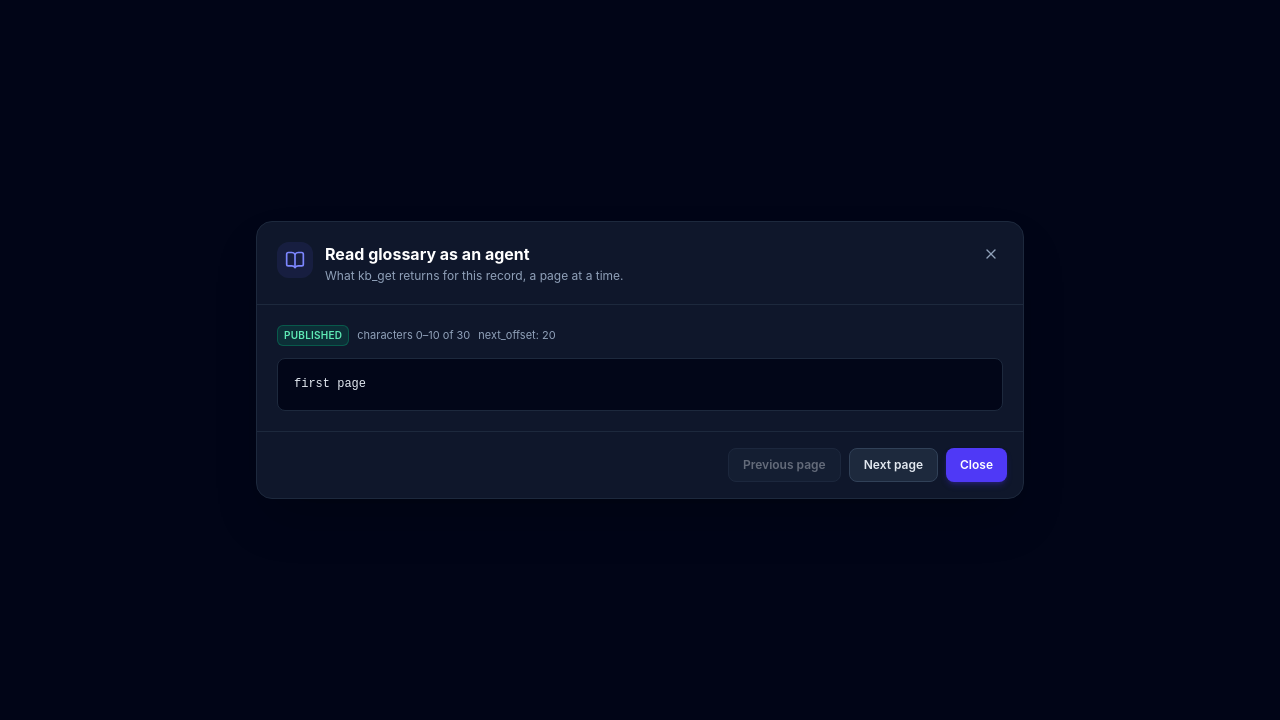
Test: ContentInspector › pages the way kb_get does, by the offsets the server hands back
Expected: the text "first page" is shown, [277,358,1003,411]
Expected: the text "next_offset: 20" is shown, [478,327,556,344]
Click the button "Next page". click: (893, 465)
box: [849,448,938,482]
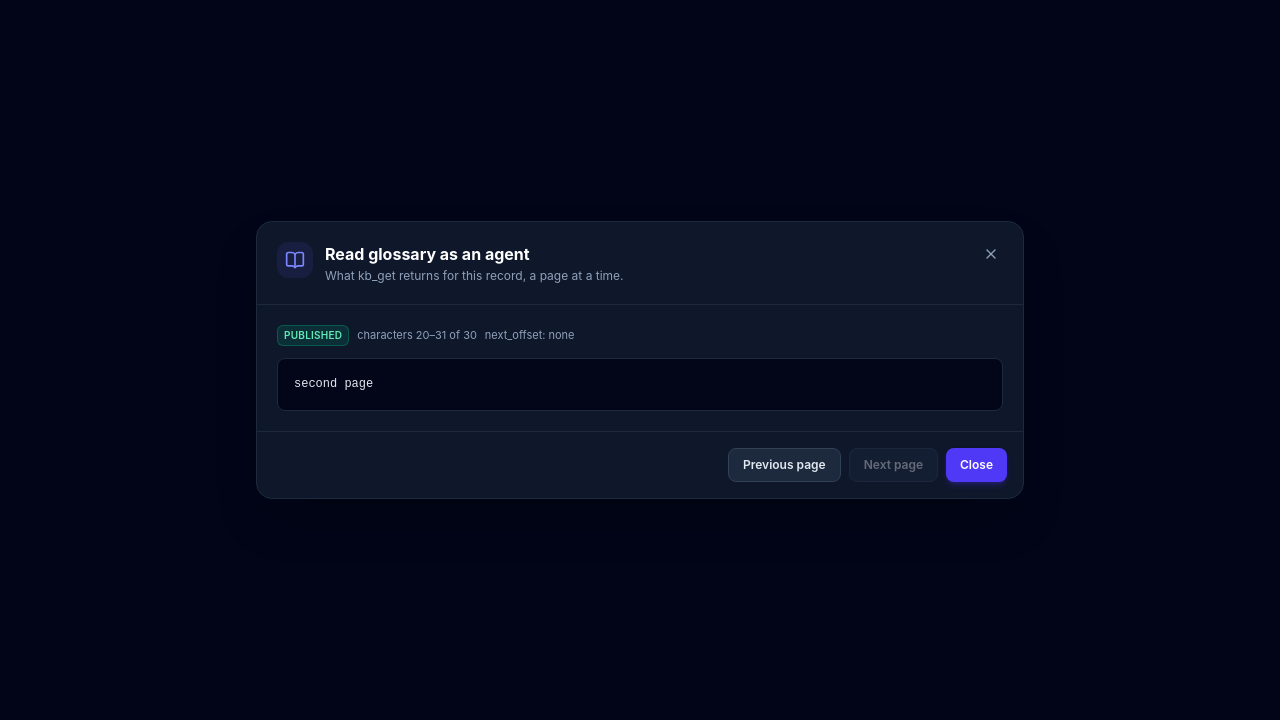
Now the text "second page" is shown, box [277,358,1003,411]
Now the button "Next page" is disabled, box [849,448,938,482]
Click the button "Previous page". click: (784, 465)
box: [728,448,841,482]
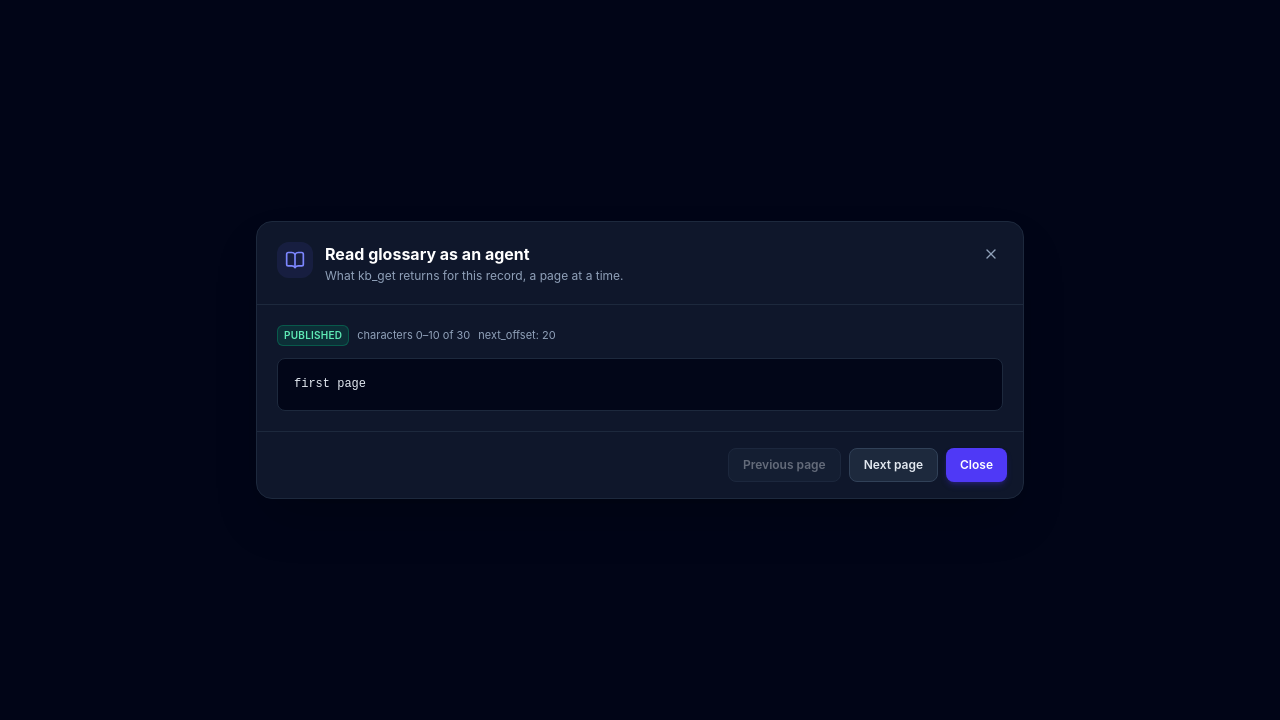
Now the text "first page" is shown, box [277,358,1003,411]
